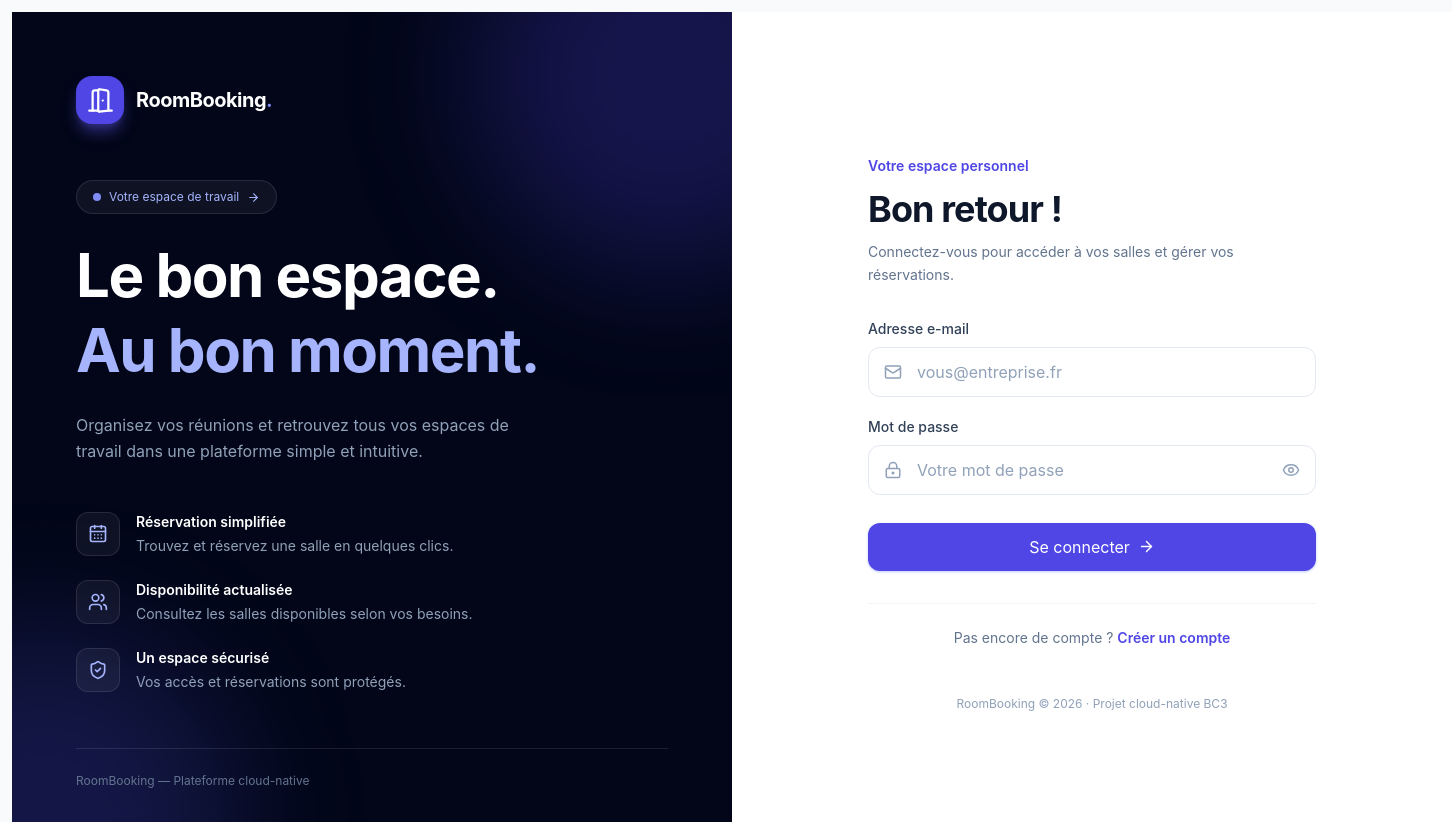
Scenario: LoginPage › navigates to the registration page
Click the link "Créer un compte".
click(1174, 637)  # box [1117,629,1230,646]
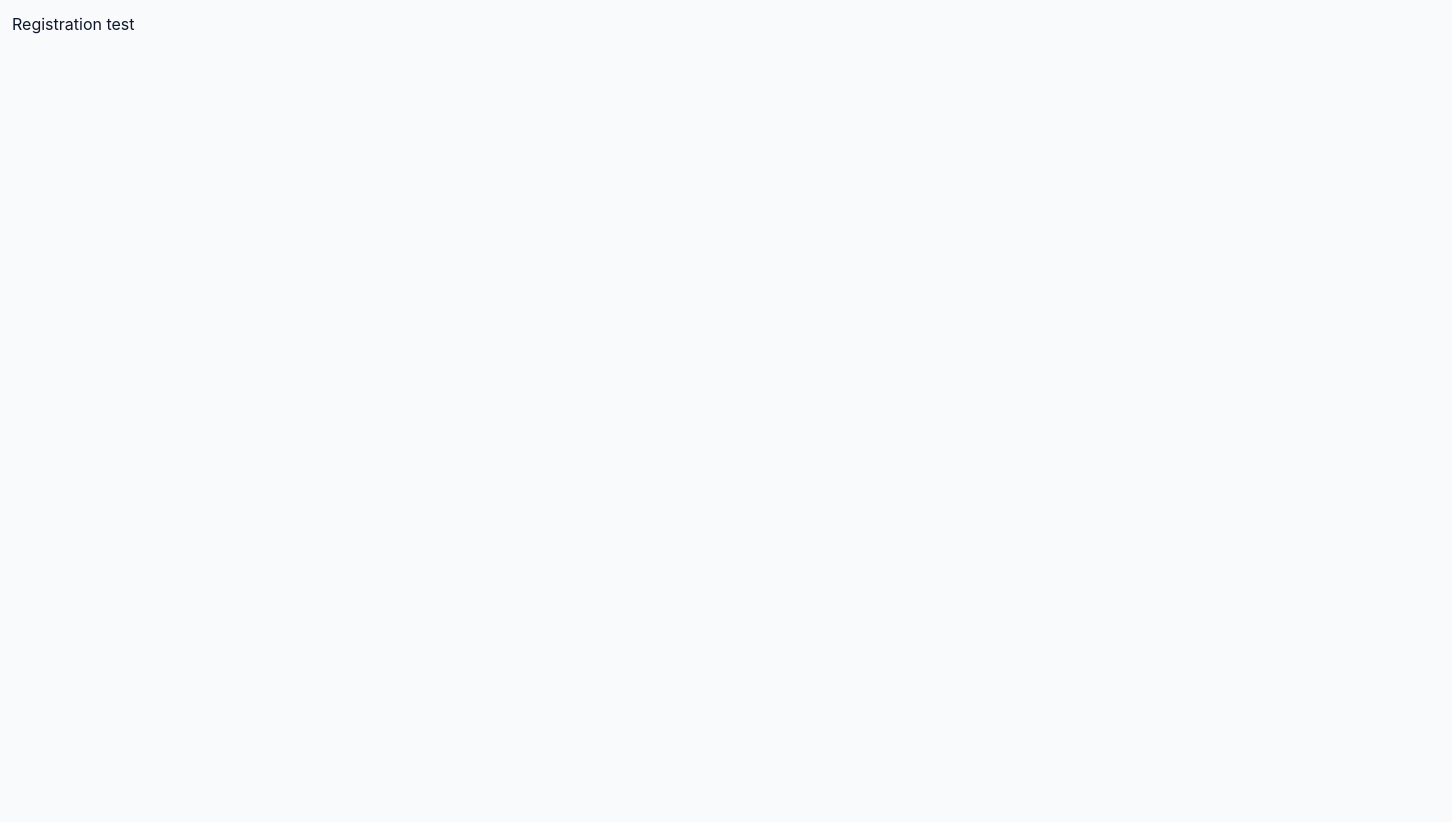
expect the heading "Registration test" is shown: met, box [12,14,134,34]
